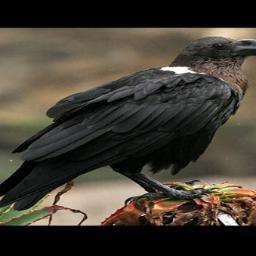Crow: (0, 35, 256, 217)
